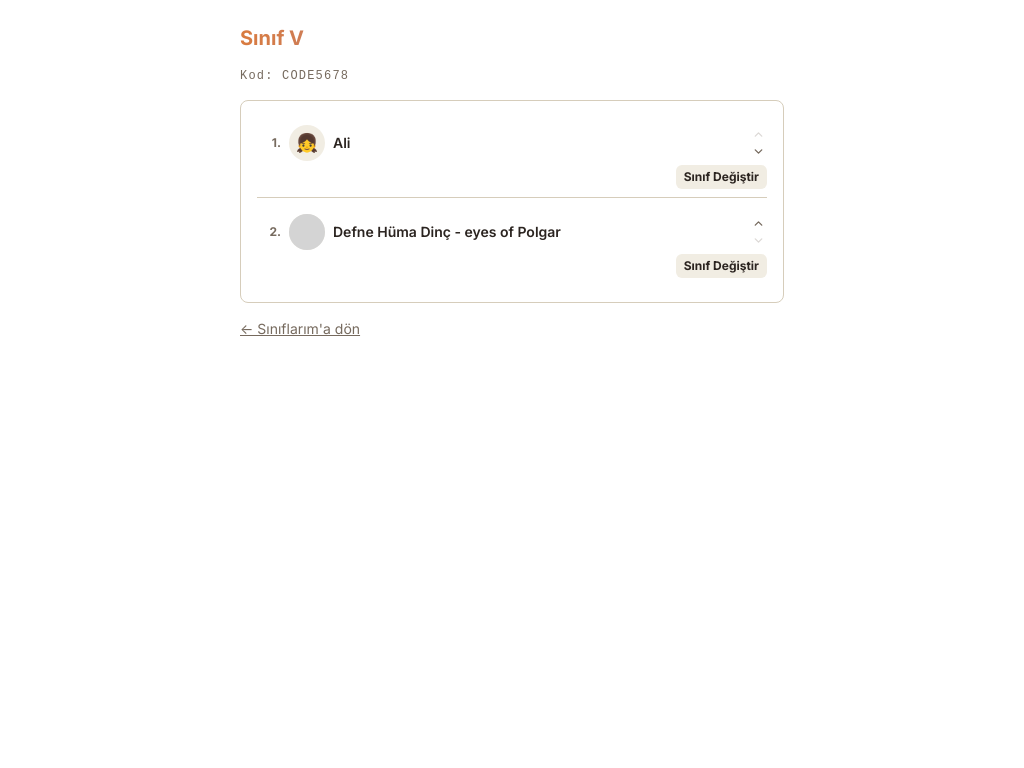
Scenario: Sınıf Değiştir (madde 4) › panel açılır, başka sınıf seçilip Taşı'ya basılınca öğrenci listeden kalkar
Expected: the text "Ali" is shown, [333,133,350,153]
Click the 1st button "Sınıf Değiştir": (721, 177) [676,165,767,189]
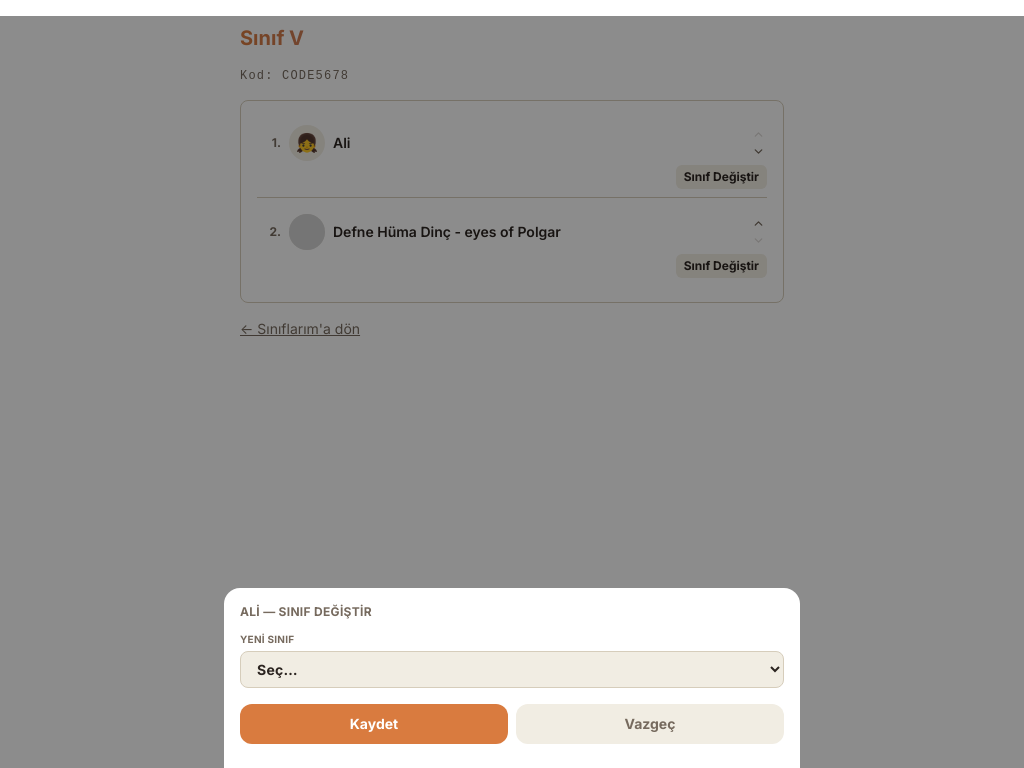
Select "Sınıf W" in the dropdown labelled "Yeni Sınıf": (512, 670) [240,651,784,688]
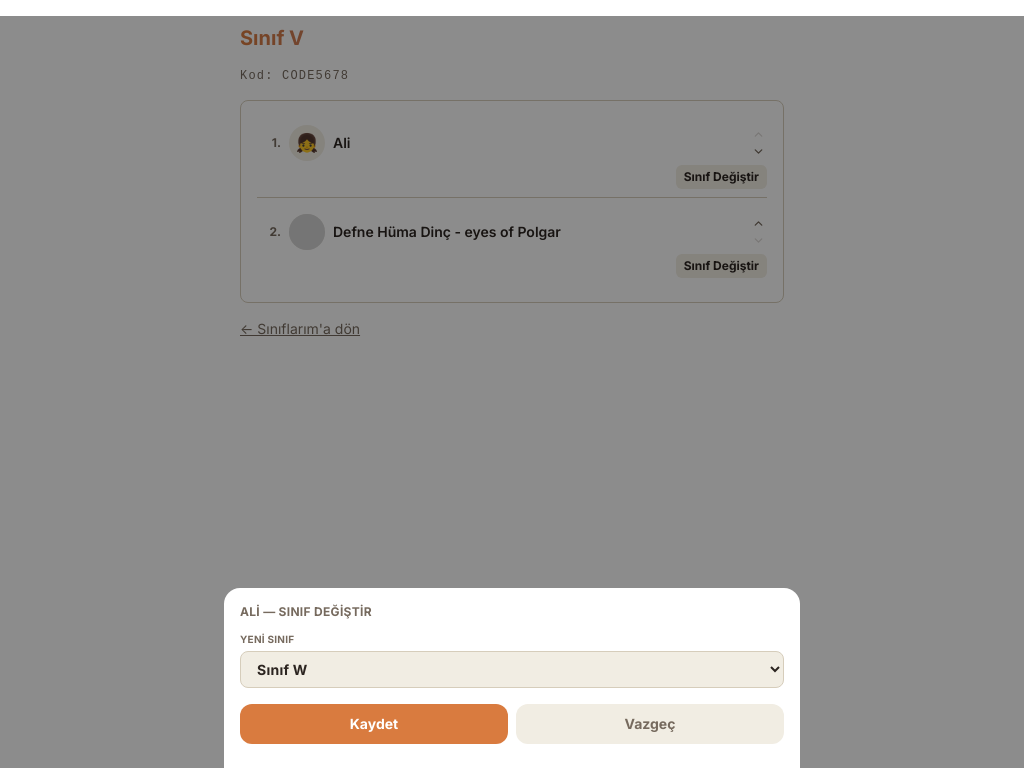
Click the button "Kaydet": (374, 724) [240,704,508,744]
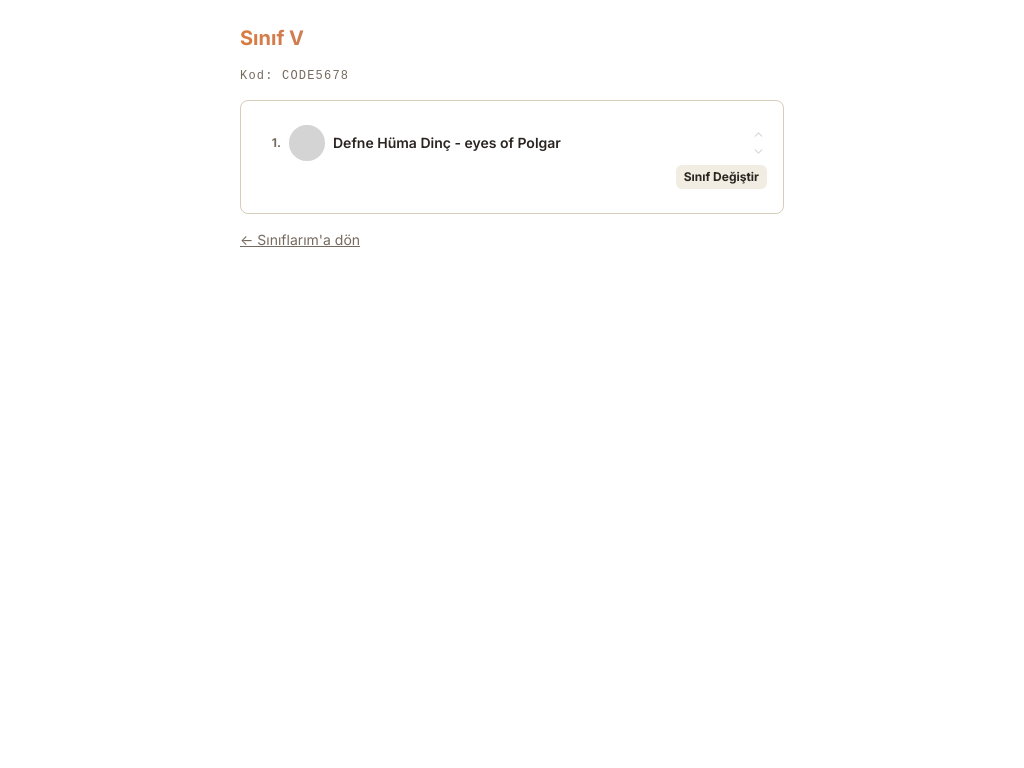
Expected: the button "Ali" is gone
